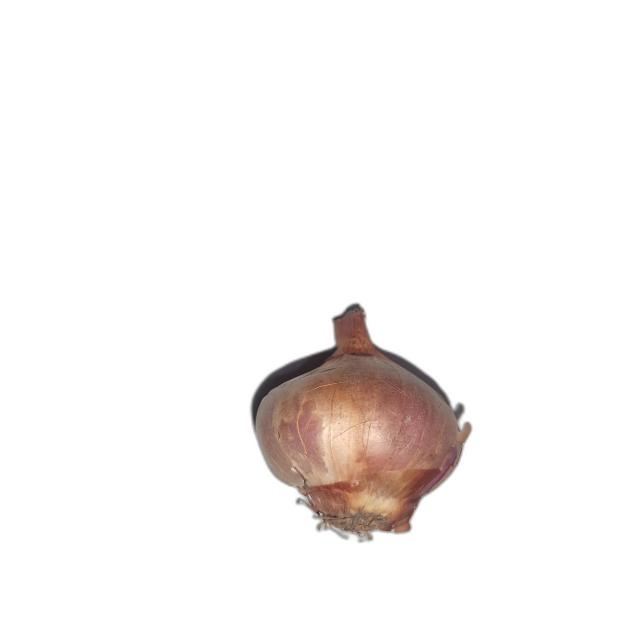onion: (253, 308, 473, 542)
